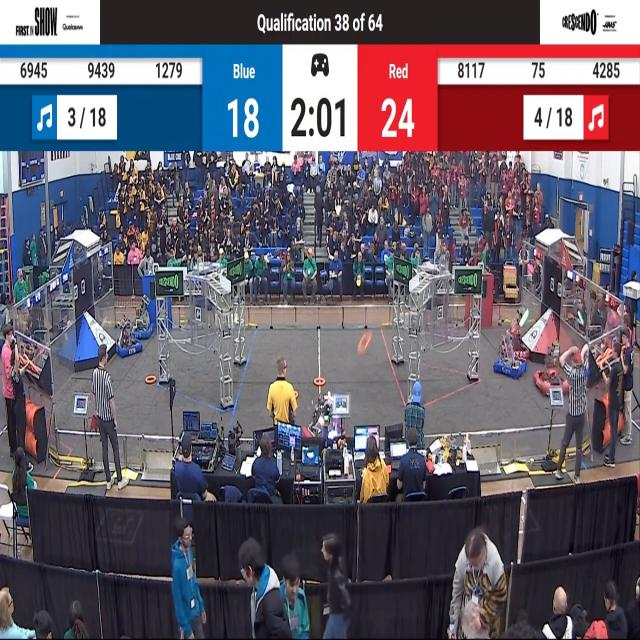Robot: (306, 386, 348, 448), (532, 339, 569, 402), (494, 317, 529, 382), (499, 314, 530, 358), (115, 309, 142, 359), (132, 294, 155, 340)
